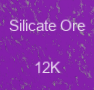Silicate: (9, 19, 87, 74)
